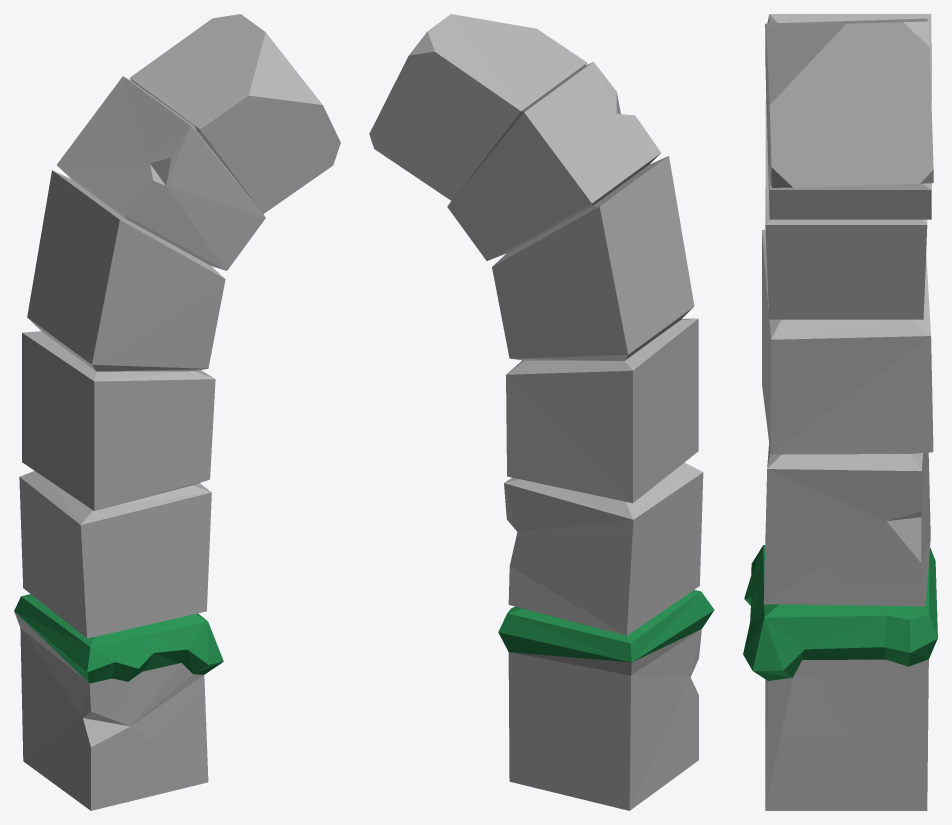
The model's file is Arch2.fbx.
3 views of the same model, side by side, from view 1: azimuth 30°, elevation 25°; view 2: azimuth 150°, elevation 25°; view 3: azimuth 270°, elevation 25° (orthographic). The views are drawn at different scales.
Parts seen in each view (by area): view 1: Arch2; view 2: Arch2; view 3: Arch2.
Boxes of the visible parts, x1=… form: Arch2: x1=14, y1=14, x2=340, y2=810; Arch2: x1=369, y1=14, x2=714, y2=810; Arch2: x1=743, y1=14, x2=937, y2=810.
Size of the model in its own units: 174 by 91.78 by 437.
